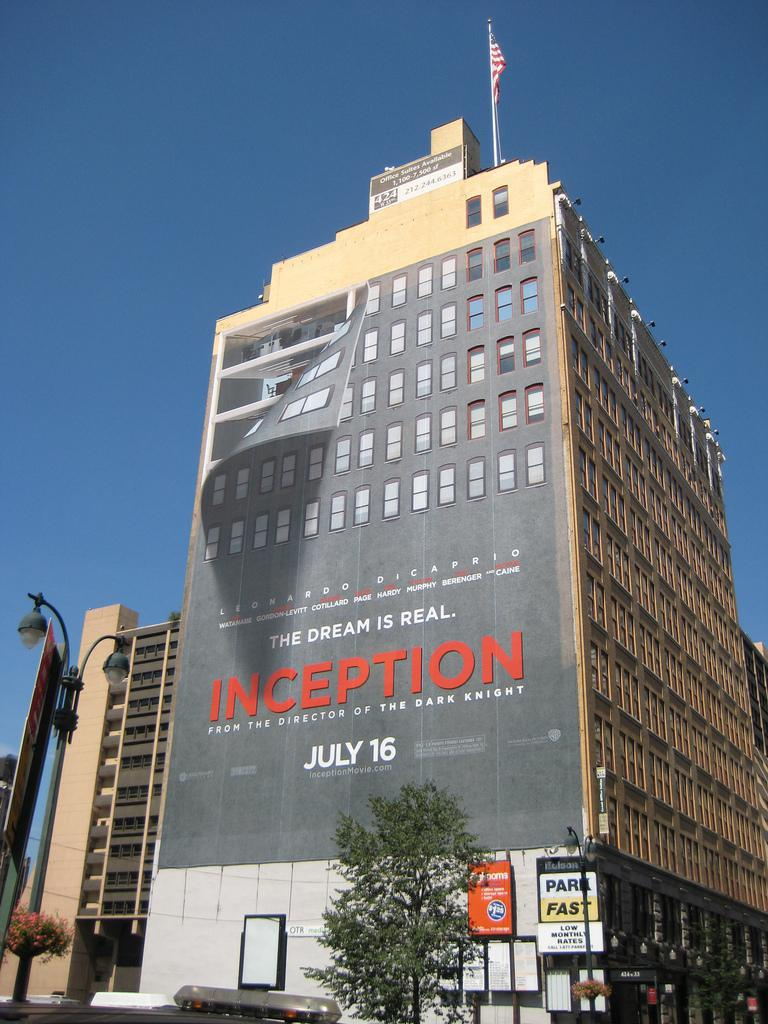affected: (203, 142, 768, 1024)
